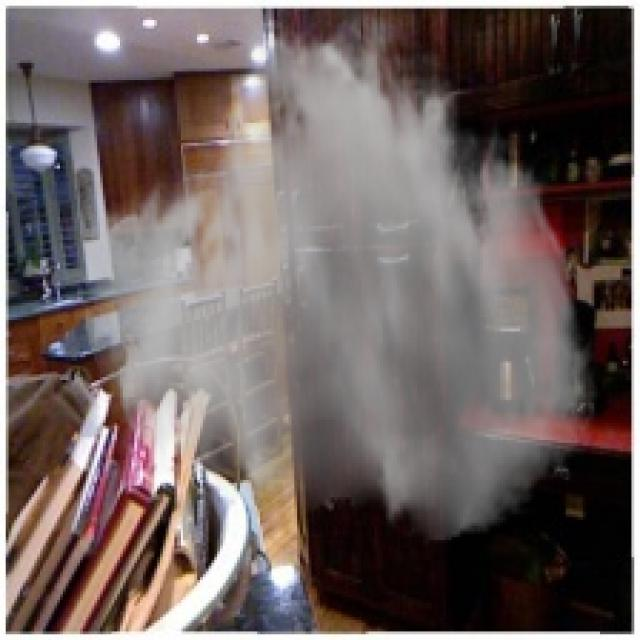smoke: (77, 3, 600, 546)
